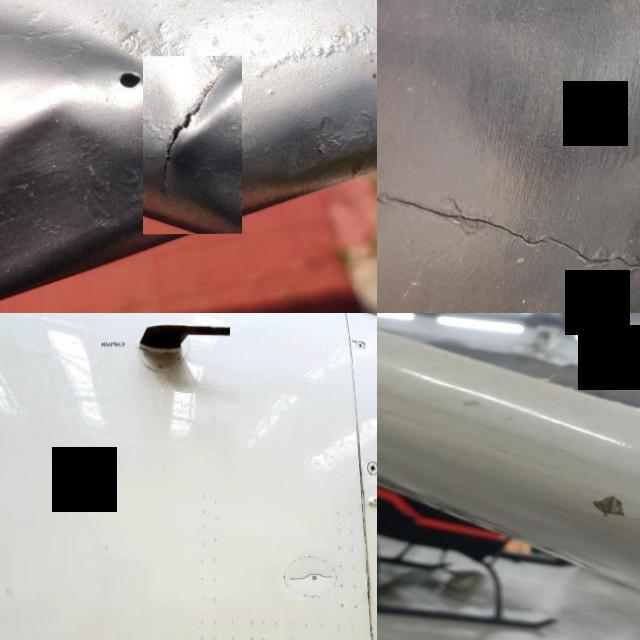Crack: (377, 149, 640, 313), (143, 56, 242, 235), (575, 491, 640, 532), (285, 570, 331, 582)
Dent: (0, 0, 236, 313)
